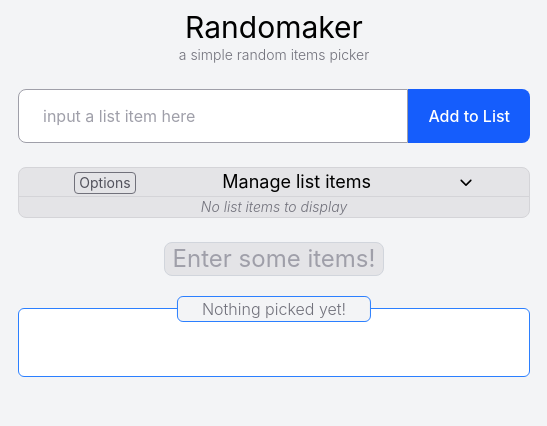
Test: +page.svelte › lets the user add items and enables picking
The image size is (547, 426).
In the field named "list-input": (213, 116) [18,89,408,143], type "Banana"
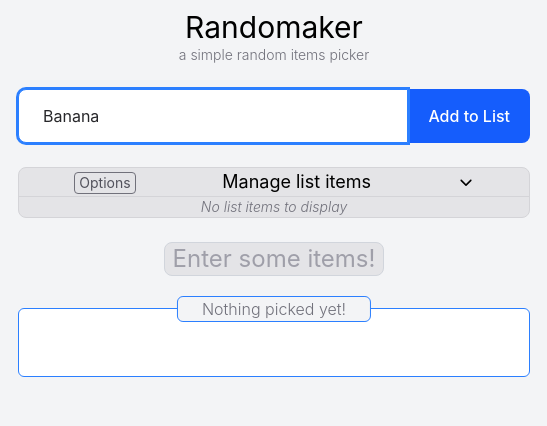
Press Enter
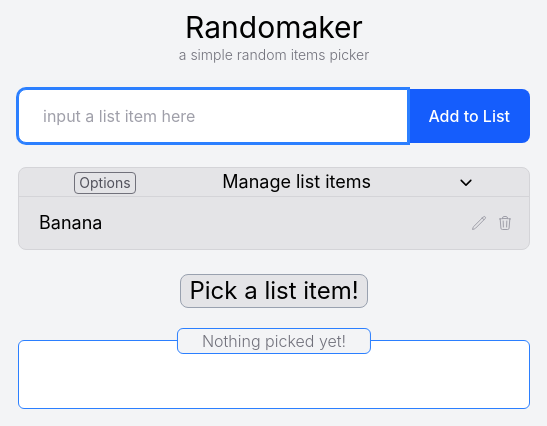
Check: the text "Banana" is shown, box [39,212,102,233]
Check: the button with aria-label "pick button" is enabled, box [180,274,368,308]
